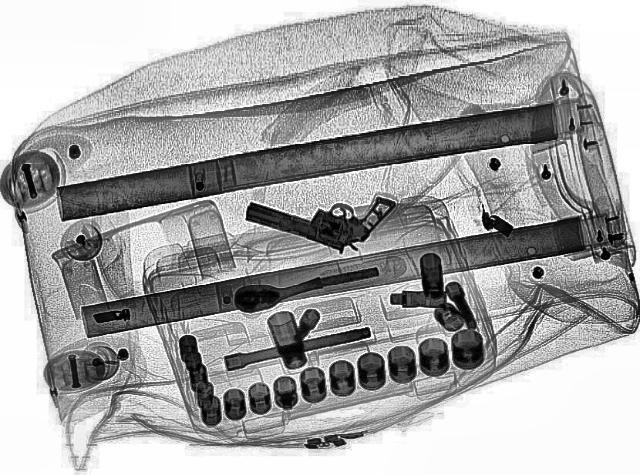Gun: (236, 166, 397, 260)
